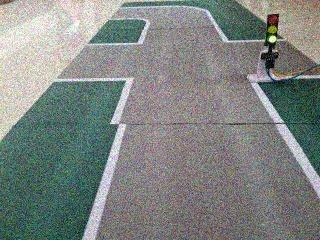green: (260, 10, 284, 52)
